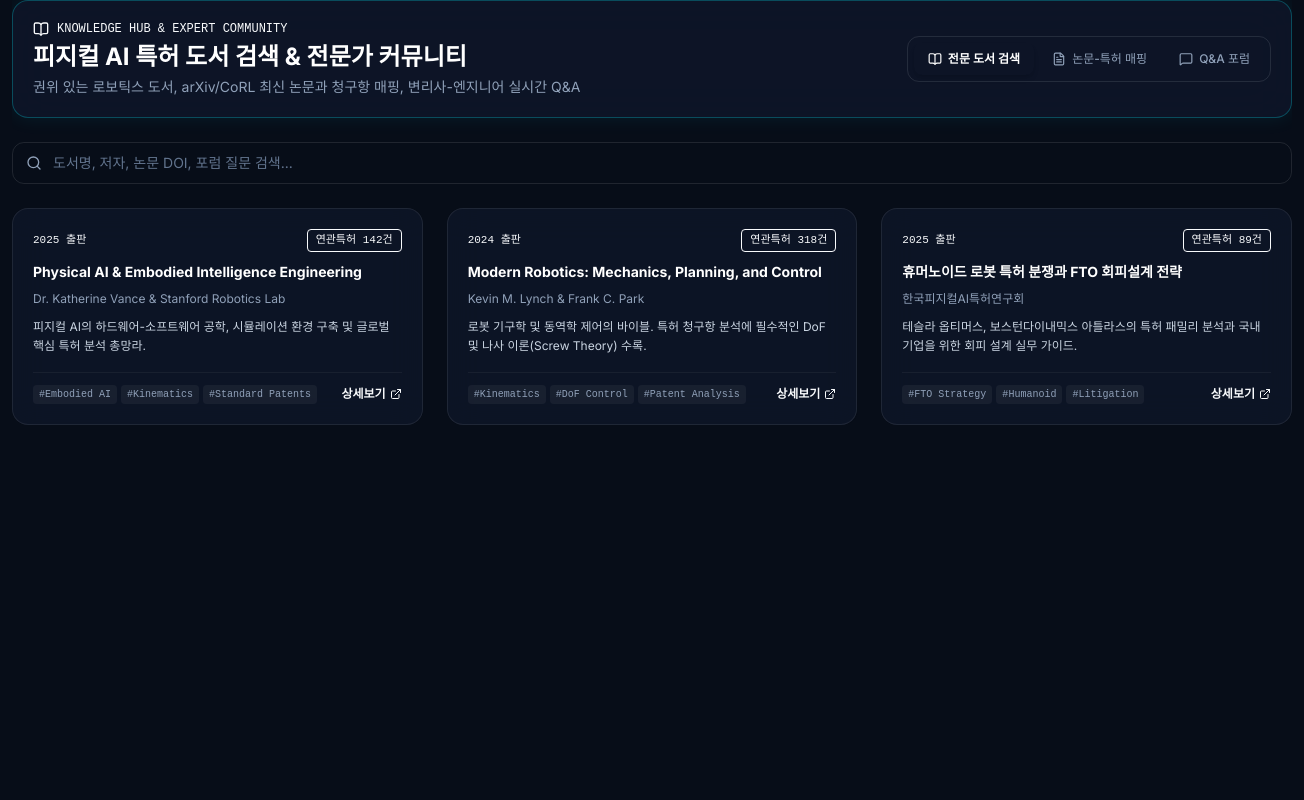
Test case: Phase 2: Patent Trends & Knowledge Community › renders CommunityView with Books, Papers, and Forum tabs
This screenshot has width=1304, height=800.
Check: the heading "피지컬 AI 특허 도서 검색 & 전문가 커뮤니티" is shown, box [33,42,467,71]
Check: the heading "Physical AI & Embodied Intelligence Engineering" is shown, box [33,262,402,281]
// Switch to Papers tab
What coordinates should you click on to do the following:
click the button "논문-특허 매핑"
I would click on:
 (1100, 59)
Its box is [1038,43,1161,75].
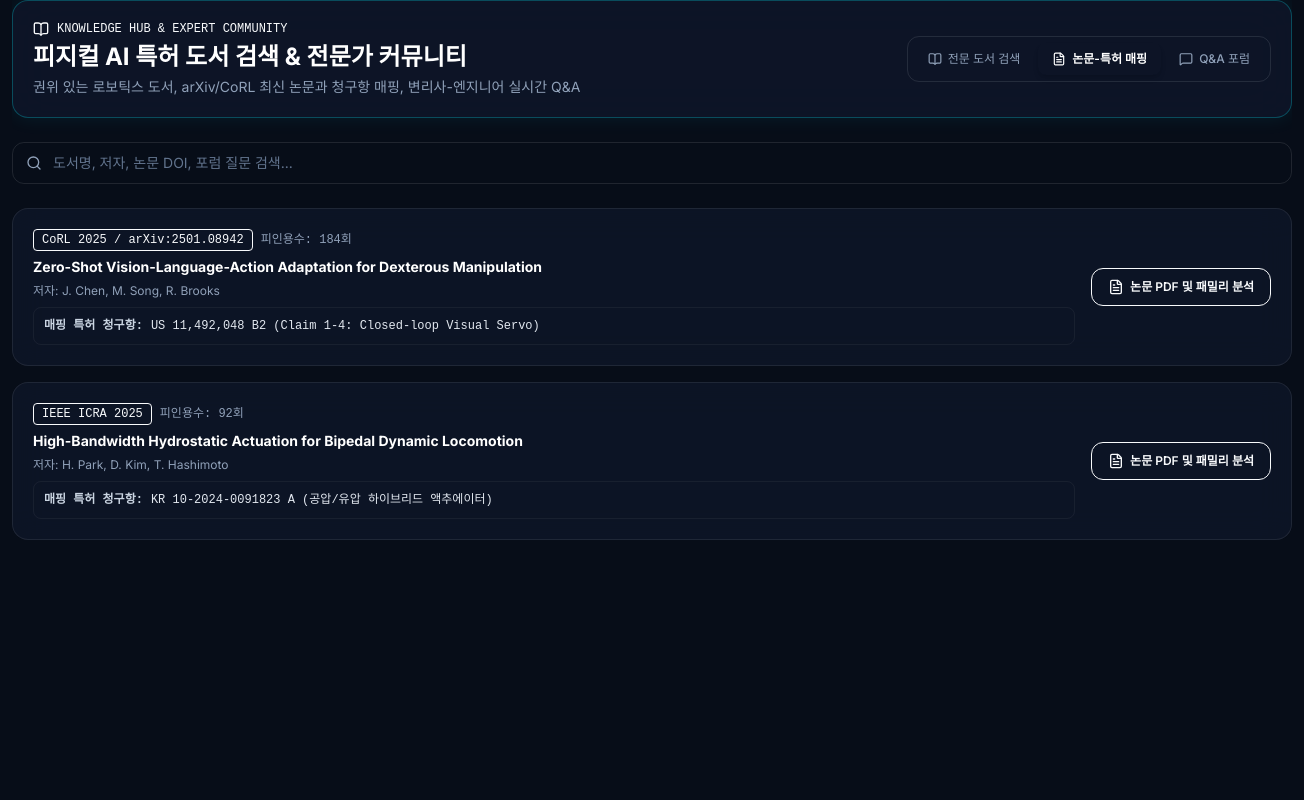
Check: the heading "Zero-Shot Vision-Language-Action" is shown, box [33,258,542,275]
// Switch to Forum tab
What coordinates should you click on to do the following:
click the button "Q&A 포럼"
I would click on:
 (1215, 59)
Its box is [1165,43,1264,75].
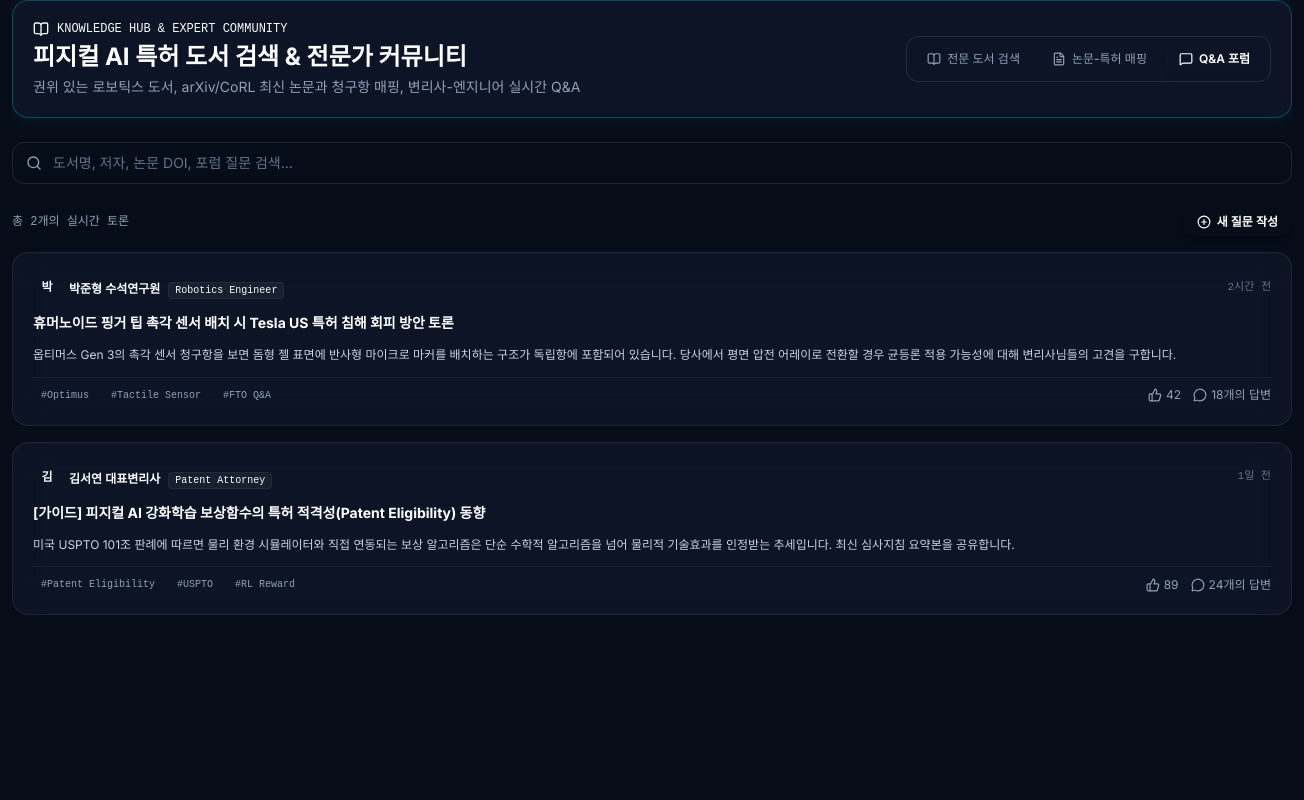
Check: the heading "휴머노이드 핑거 팁 촉각 센서 배치 시 Tesla US 특허 침해 회피 방안 토론" is shown, box [33,314,454,331]
